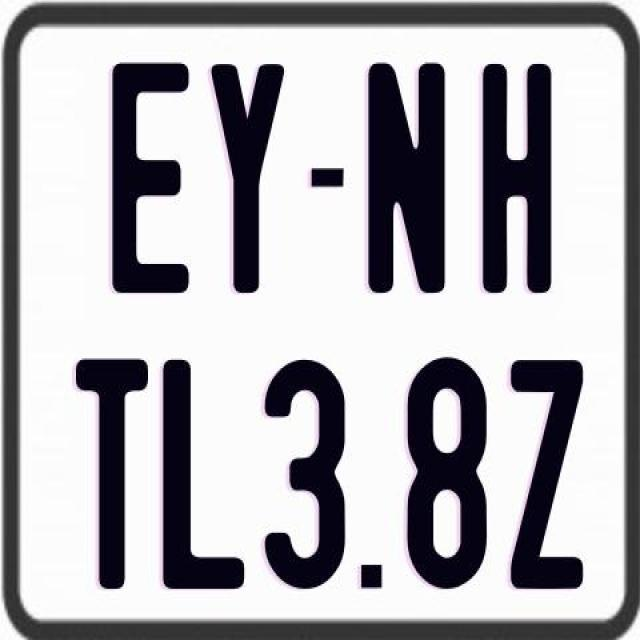3: (262, 361, 350, 594)
8: (406, 352, 491, 592)
E: (109, 61, 191, 292)
H: (482, 59, 554, 290)
L: (161, 357, 244, 586)
N: (365, 61, 448, 296)
T: (73, 356, 152, 594)
Y: (206, 59, 282, 290)
Z: (507, 358, 582, 594)
